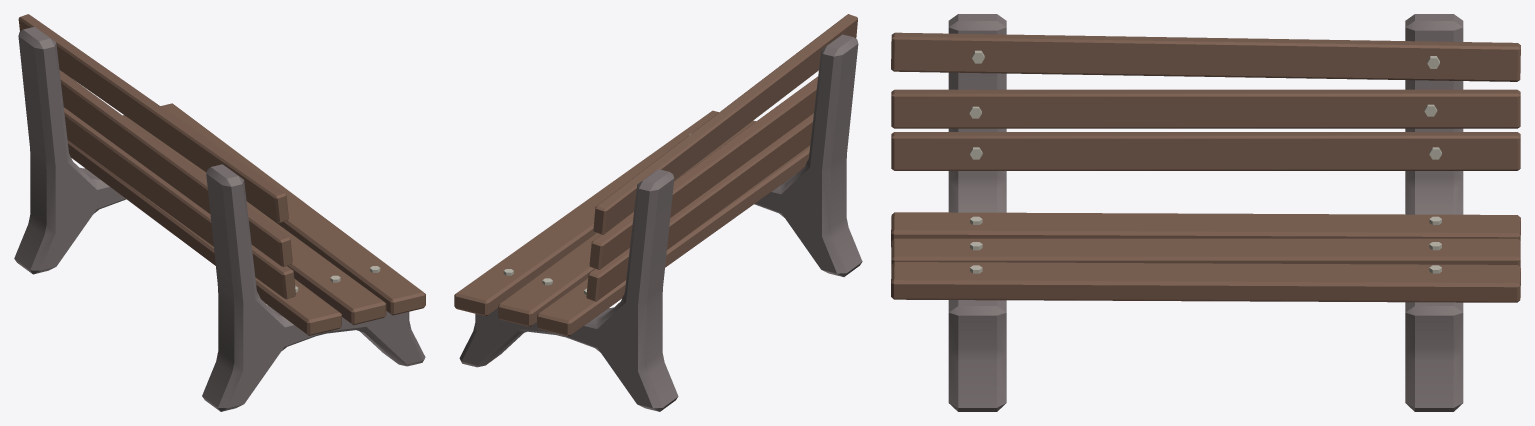
File: context ii BENMCH.fbx
The picture shows the model from 3 angles, left to right: view 1: azimuth 30°, elevation 25°; view 2: azimuth 150°, elevation 25°; view 3: azimuth 270°, elevation 25°; orthographic projection. The views are drawn at different scales.
Visible parts, largest first — view 1: Cube.001, bench planks.001, bench planks; view 2: Cube.001, bench planks.001, bench planks; view 3: bench planks.001, bench planks, Cube.001, Cylinder, Cylinder.001.
Part boxes in pixels (x1,y1,x2,y2): Cube.001: [14, 27, 425, 411]; bench planks.001: [18, 14, 295, 299]; bench planks: [67, 103, 425, 335]; Cube.001: [459, 34, 862, 411]; bench planks.001: [586, 14, 857, 301]; bench planks: [454, 110, 810, 336]; bench planks.001: [891, 32, 1520, 170]; bench planks: [891, 212, 1520, 302]; Cube.001: [948, 14, 1463, 411]; Cylinder: [969, 50, 1441, 159]; Cylinder.001: [970, 216, 1441, 273].
Bounding box in the file's own units: 0.0287 × 0.0306 × 0.062.
